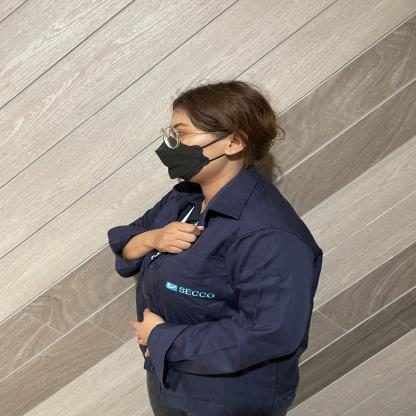Sadness: (132, 210, 232, 268)
